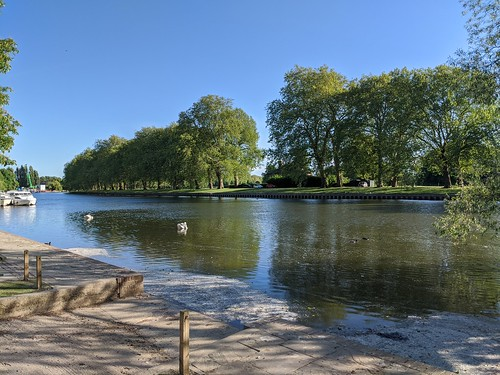river: (31, 190, 500, 375)
sky: (20, 1, 463, 126)
vegetation: (287, 64, 500, 193), (62, 112, 254, 194)
